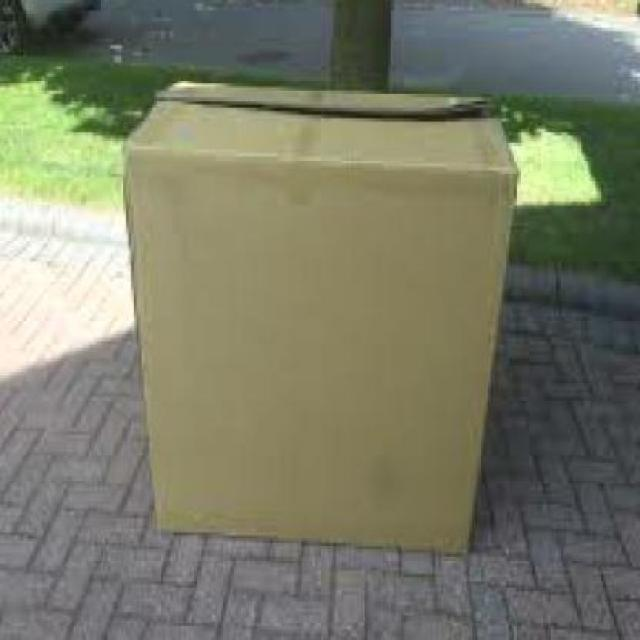box: (110, 69, 527, 574)
